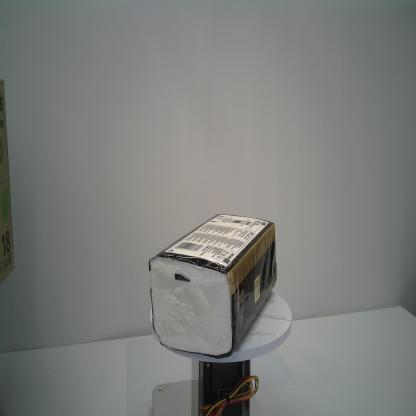Tissue: (148, 212, 278, 360)
